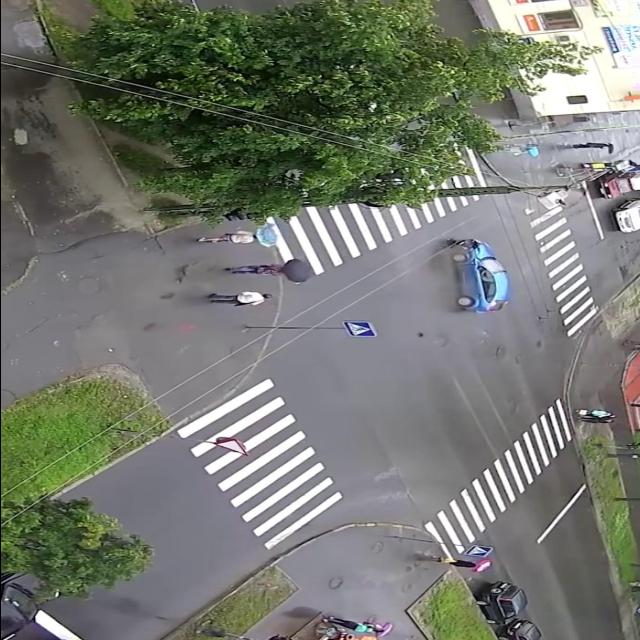accident: (425, 234, 515, 320)
